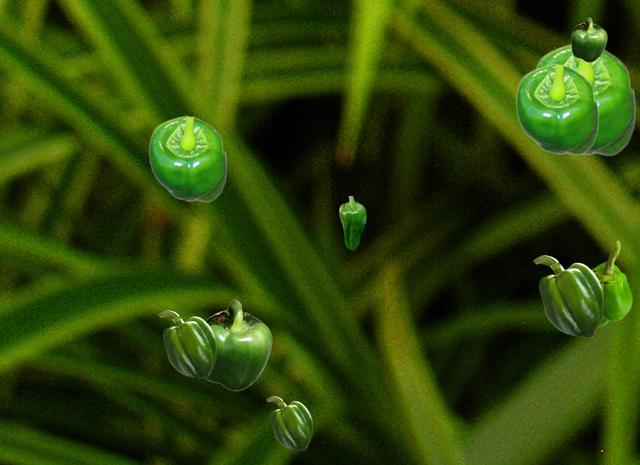bell_pepper: (535, 43, 635, 155), (515, 63, 598, 154), (148, 115, 226, 201), (204, 299, 271, 390), (533, 255, 602, 336), (158, 310, 215, 377), (592, 240, 631, 326), (266, 396, 311, 449), (571, 17, 606, 61), (339, 196, 365, 249)
